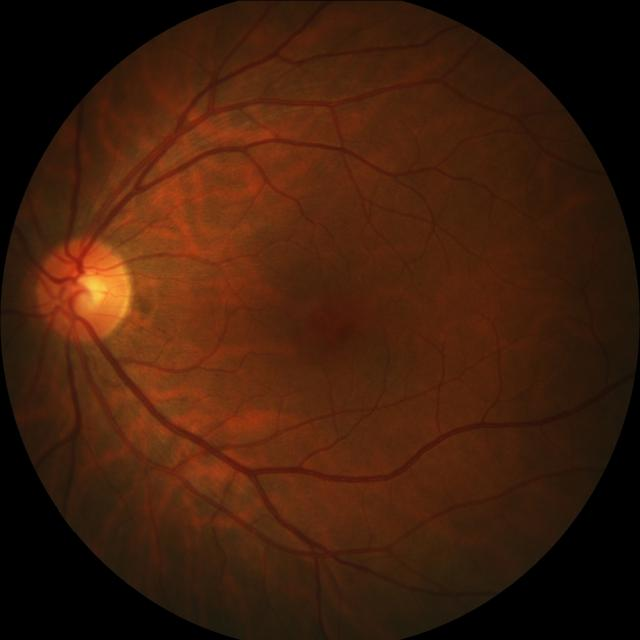OC: (66, 266, 108, 314)
OD: (36, 236, 134, 342)
